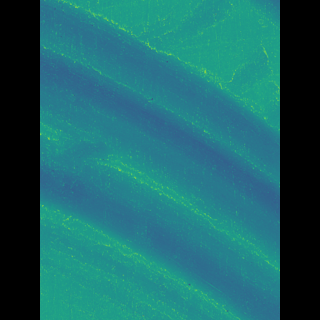Loch: (70, 0, 250, 320)
